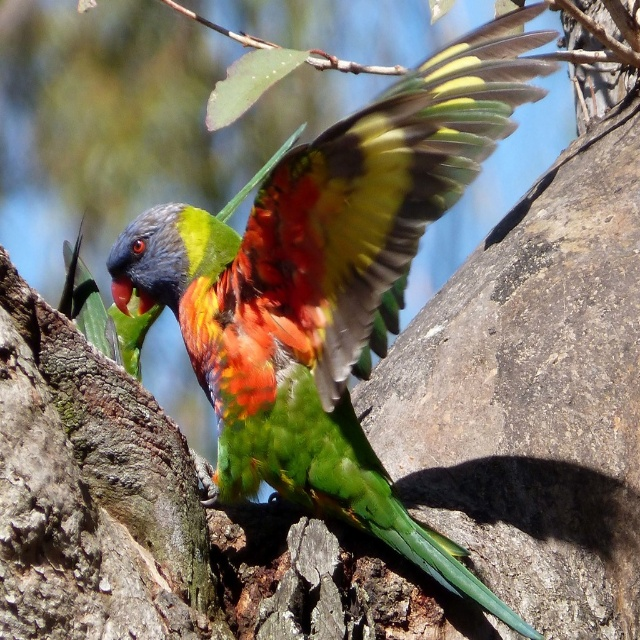Parrot: (102, 0, 548, 640)
